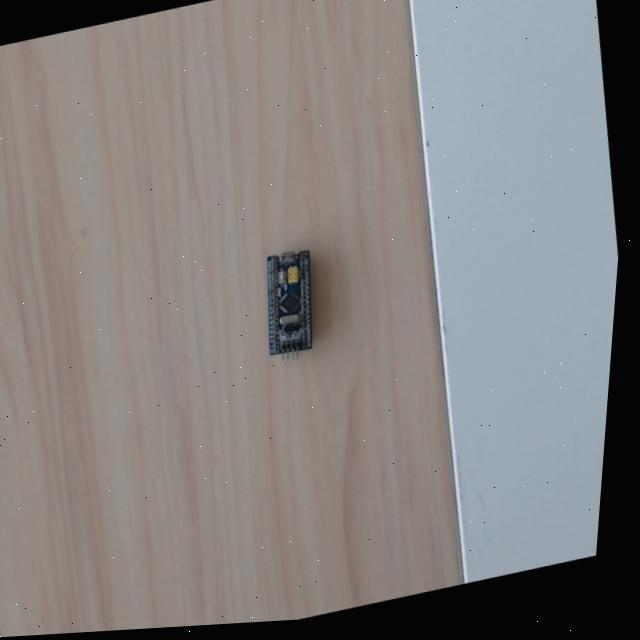STM32-Bluepill: (259, 249, 315, 358)
